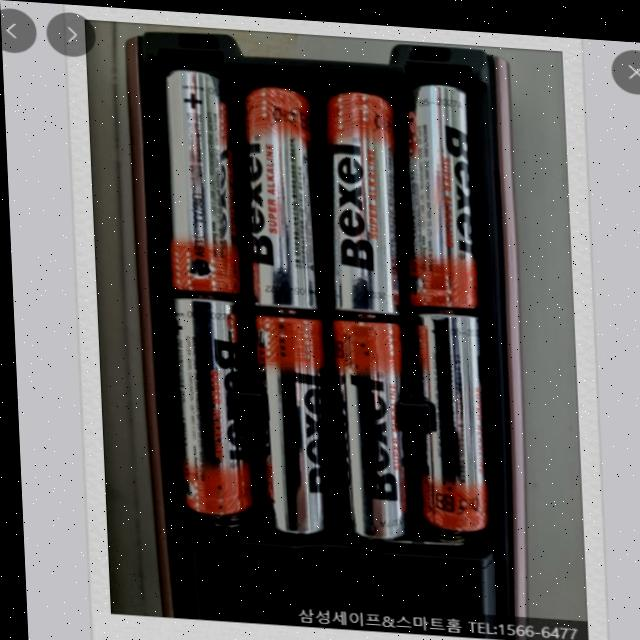battery: (323, 312, 421, 542), (238, 72, 326, 317), (407, 304, 494, 549), (316, 81, 404, 320), (166, 290, 257, 521), (250, 309, 335, 538), (399, 82, 482, 315), (159, 68, 239, 294)
